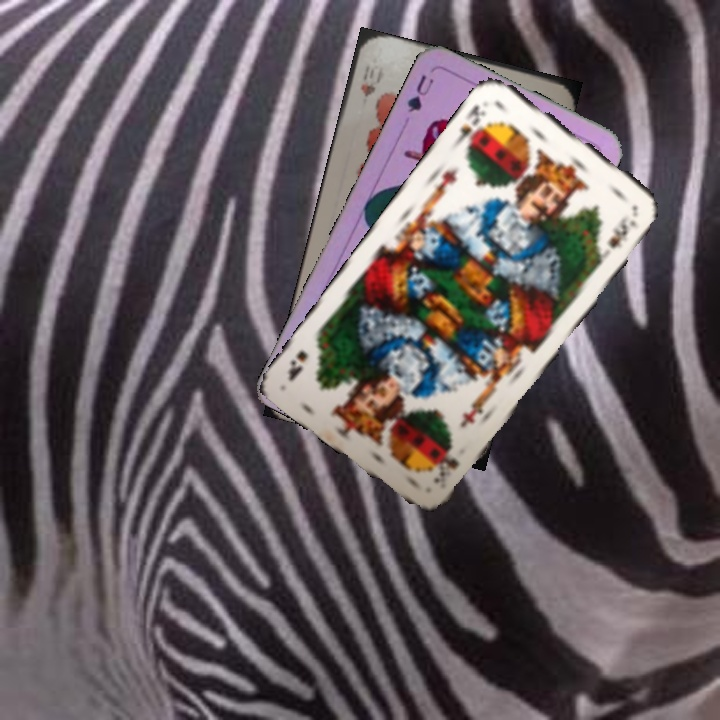GU: (403, 70, 437, 115)
H10: (356, 61, 386, 99)
SK: (450, 101, 489, 153), (429, 454, 462, 492)
